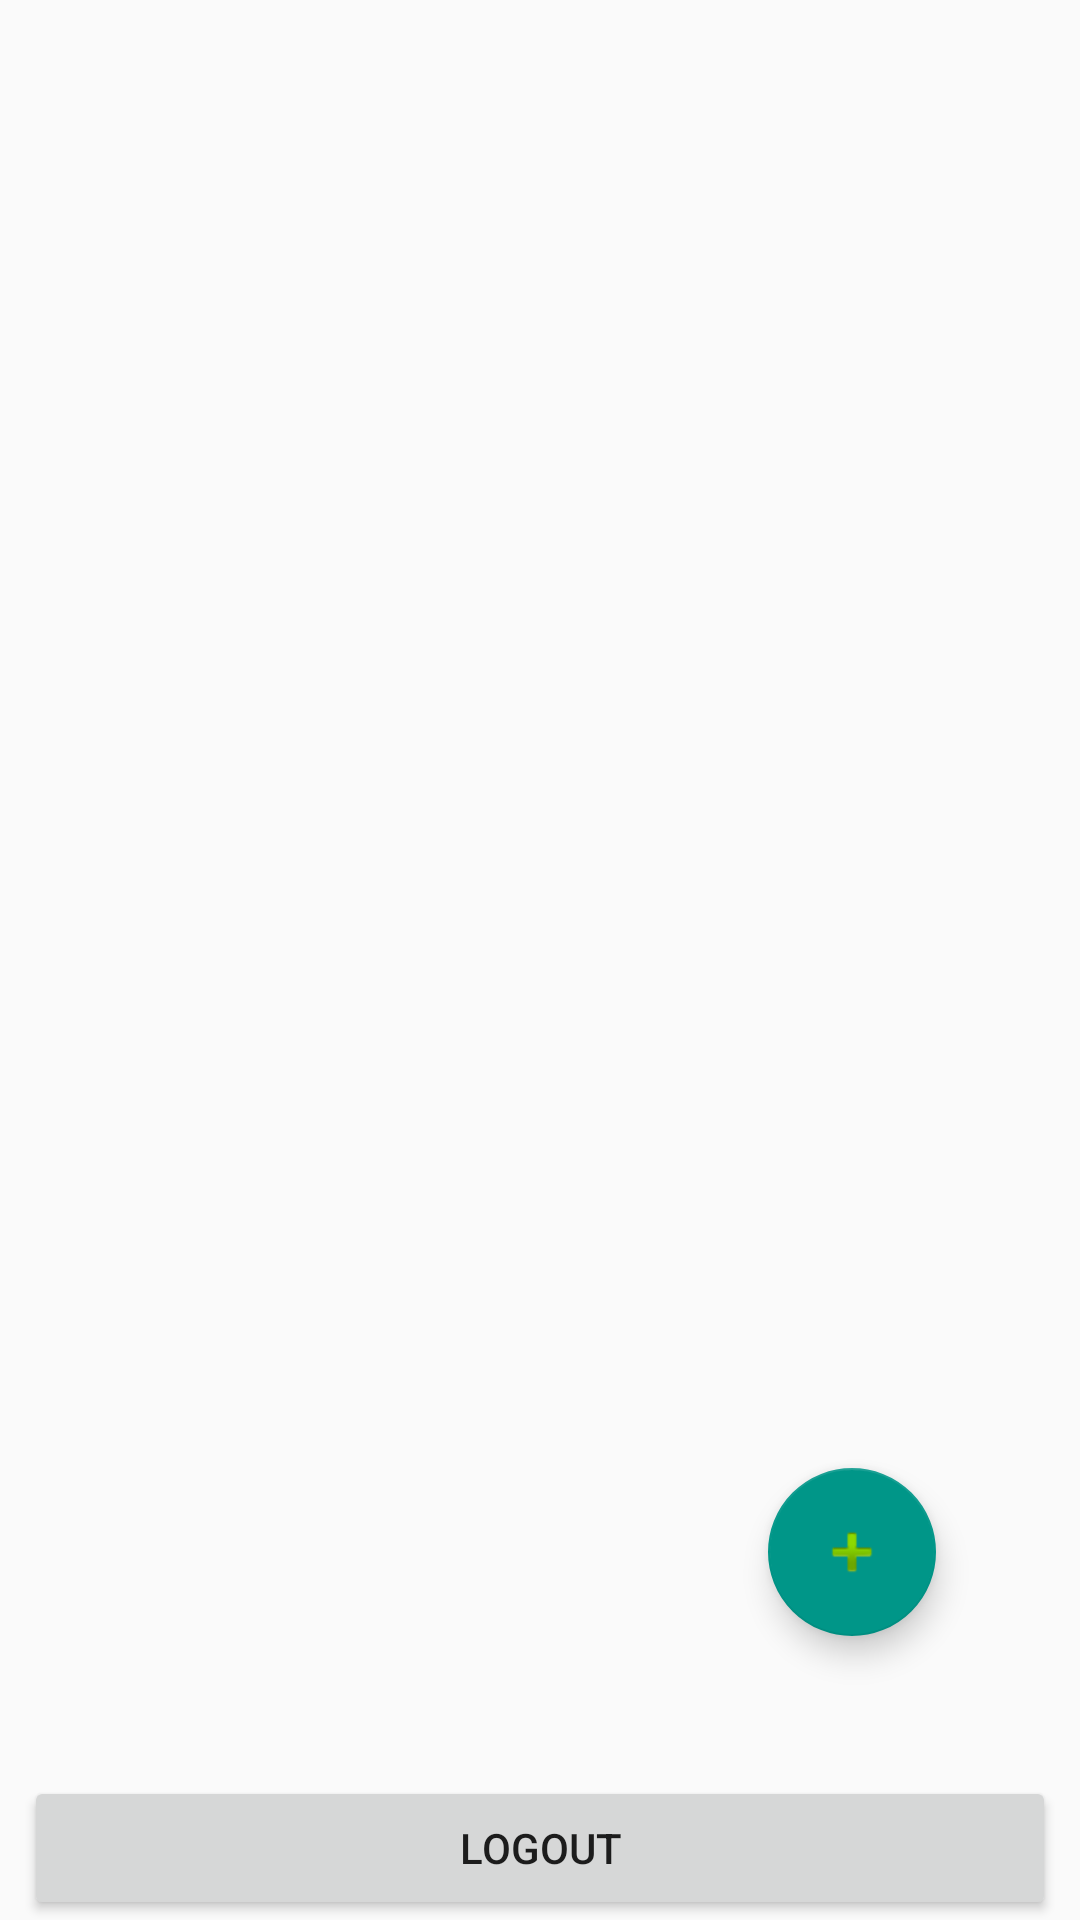

Icons on this 1080 × 1920 Android screen, each with its box as Rect(x1, y1, x2, y2):
add: Rect(768, 1468, 936, 1636)
